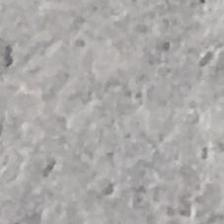Non_Crack: (10, 34, 224, 219)
